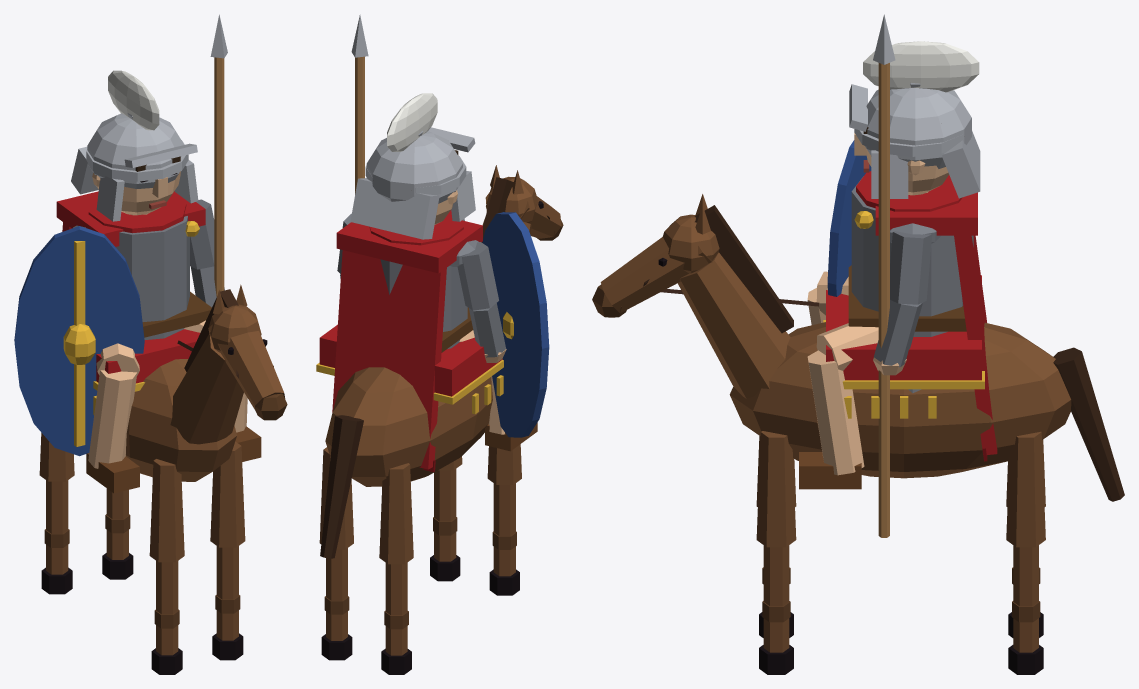
Rendered from ekwita.glb.
The picture shows the model from 3 angles, left to right: view 1: azimuth 30°, elevation 25°; view 2: azimuth 150°, elevation 25°; view 3: azimuth 270°, elevation 25°; orthographic projection. The views are drawn at different scales.
Visible parts, largest first — view 1: jezdziec, kon_glowa, ekwita, kon_noga_lp, kon_noga_pp, kon_noga_lt, kon_noga_pt; view 2: jezdziec, ekwita, kon_noga_lt, kon_noga_lp, kon_noga_pt, kon_ogon, kon_glowa, kon_noga_pp; view 3: jezdziec, ekwita, kon_glowa, kon_noga_pp, kon_noga_pt, kon_ogon.
Boxes of the visible parts, left/top/right/bottom form: jezdziec: left=14, top=14, right=261, bottom=493; kon_glowa: left=170, top=284, right=287, bottom=444; ekwita: left=93, top=329, right=236, bottom=481; kon_noga_lp: left=149, top=459, right=184, bottom=674; kon_noga_pp: left=210, top=441, right=245, bottom=660; kon_noga_lt: left=39, top=433, right=74, bottom=594; kon_noga_pt: left=102, top=488, right=133, bottom=579; jezdziec: left=332, top=14, right=549, bottom=472; ekwita: left=316, top=324, right=503, bottom=486; kon_noga_lt: left=379, top=463, right=413, bottom=674; kon_noga_lp: left=487, top=444, right=521, bottom=595; kon_noga_pt: left=319, top=447, right=353, bottom=660; kon_ogon: left=320, top=415, right=363, bottom=558; kon_glowa: left=481, top=165, right=563, bottom=242; kon_noga_pp: left=430, top=456, right=462, bottom=581; jezdziec: left=799, top=14, right=997, bottom=537; ekwita: left=729, top=275, right=1071, bottom=478; kon_glowa: left=592, top=194, right=818, bottom=398; kon_noga_pp: left=756, top=431, right=796, bottom=674; kon_noga_pt: left=1006, top=431, right=1045, bottom=674; kon_ogon: left=1053, top=347, right=1124, bottom=501.
Size of the model in its own units: 0.9626 by 2.63 by 1.88.
